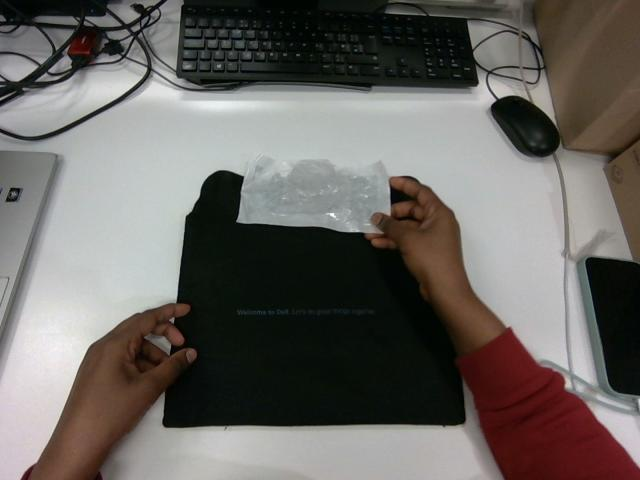gallipot: (237, 155, 389, 232)
